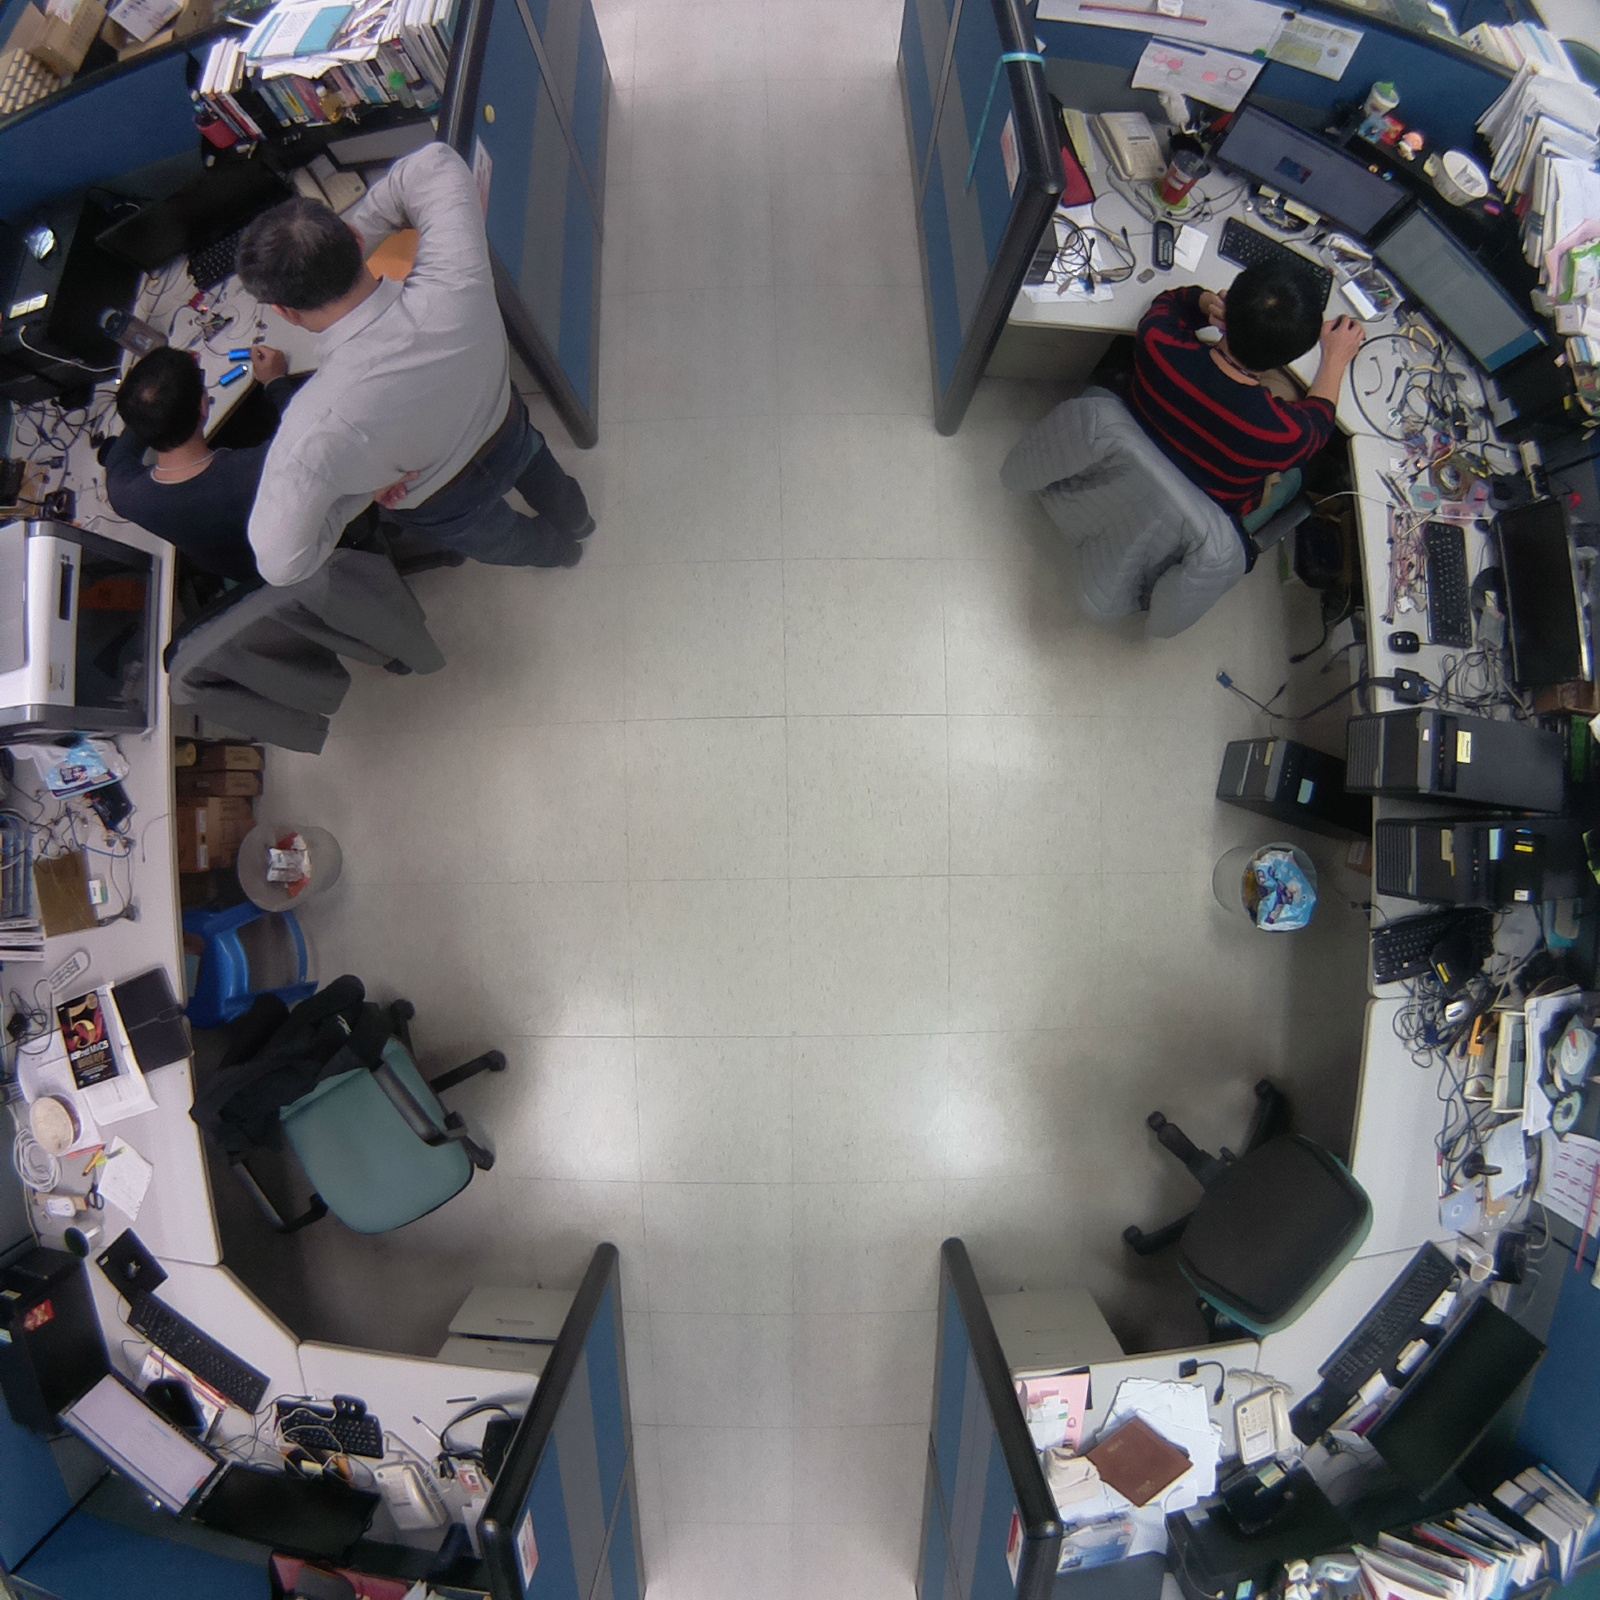chair: (181, 952, 542, 1258), (1099, 1058, 1383, 1347)
head: (229, 193, 374, 321), (1210, 251, 1325, 372), (108, 344, 217, 453)
sitting: (970, 241, 1368, 665), (88, 340, 450, 760)
standing: (211, 192, 621, 594)
